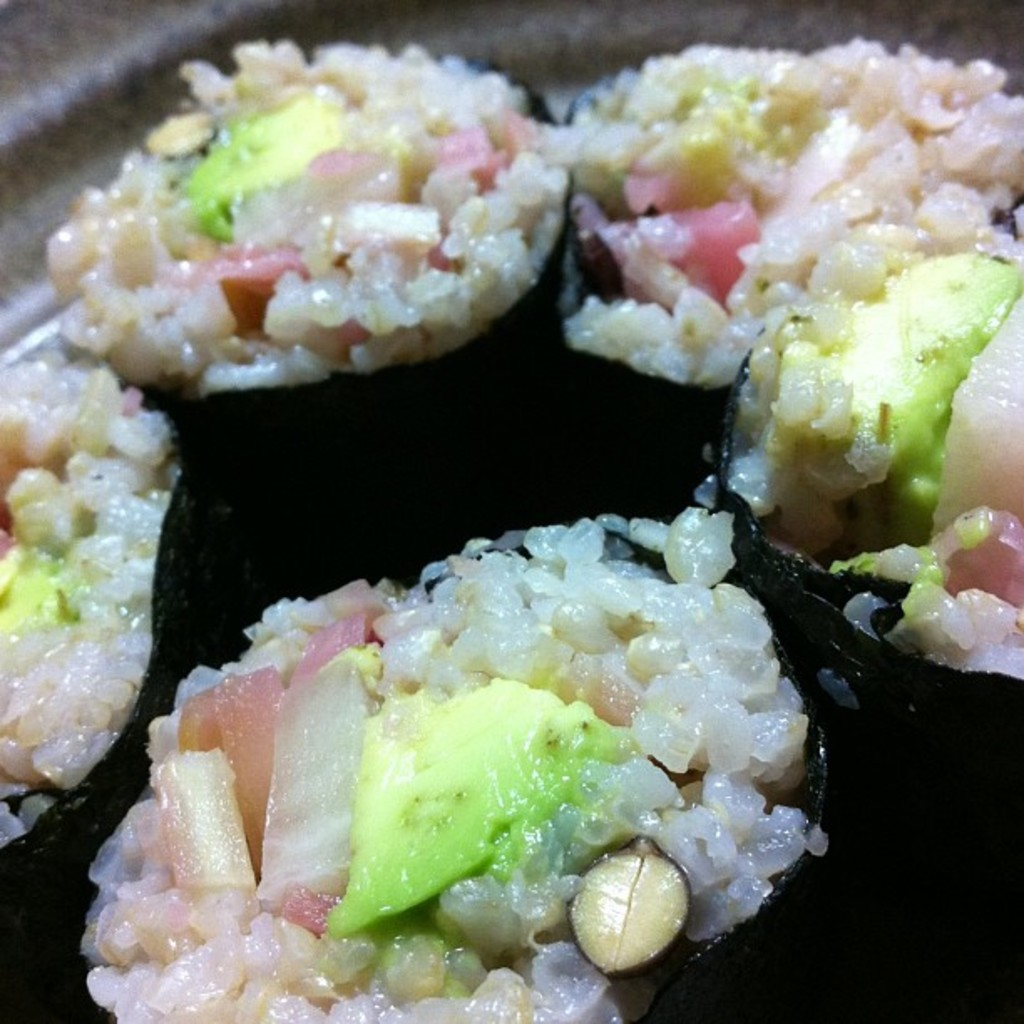sushi: (30, 89, 924, 982)
